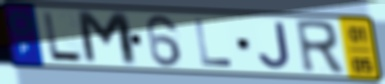6: (145, 13, 184, 69)
J: (256, 20, 293, 71)
L: (40, 10, 87, 64), (192, 17, 235, 68)
M: (74, 9, 142, 69)
R: (292, 18, 348, 77)
